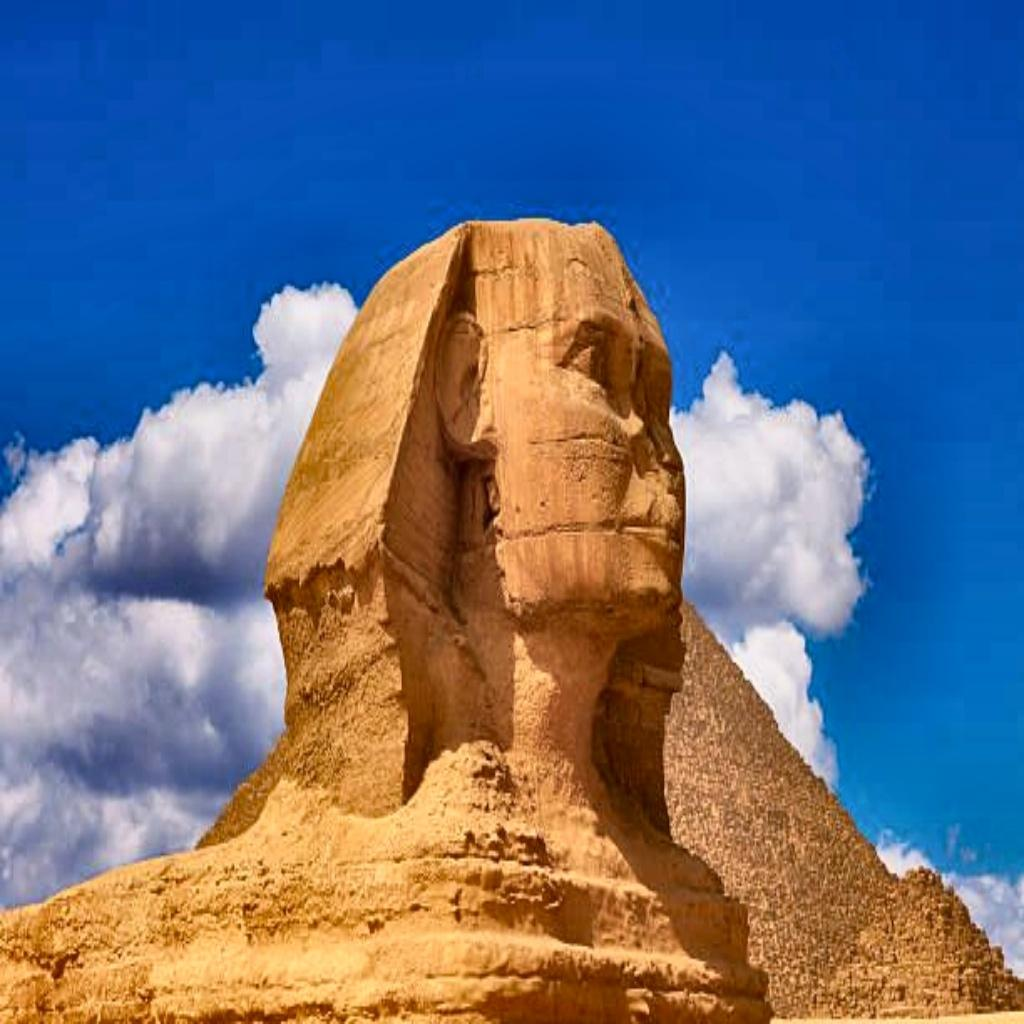Sphinx: (2, 213, 1020, 1019)
